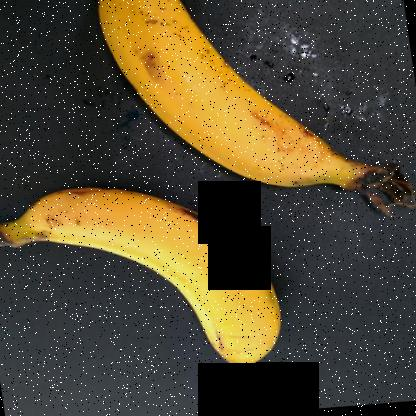freshripe: (0, 171, 297, 368)
ripe: (72, 1, 359, 194)
